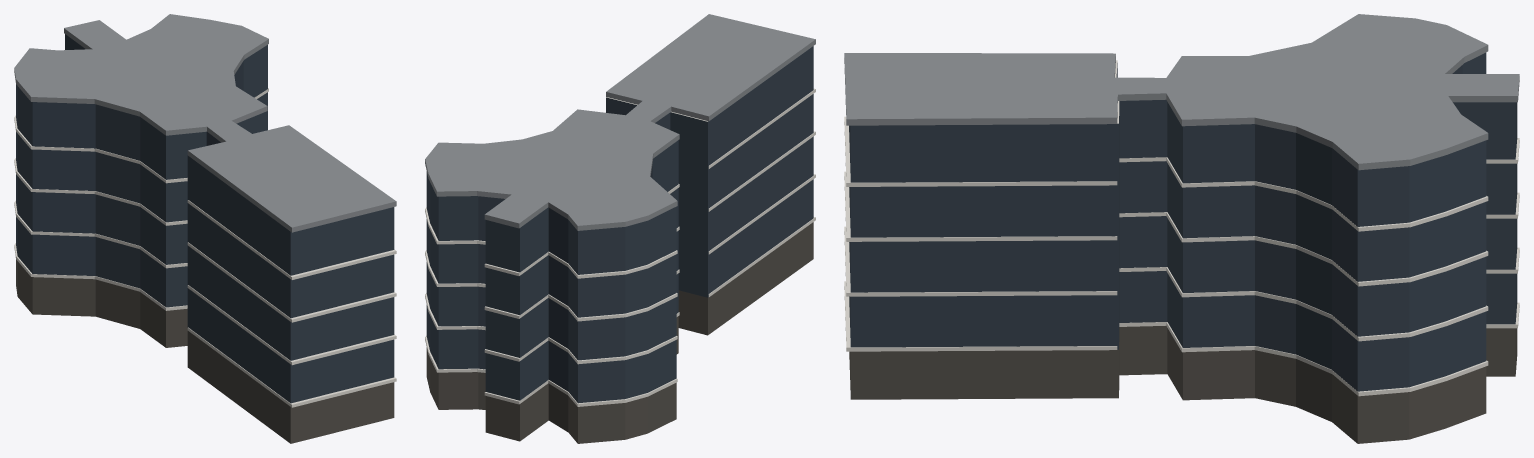
The model's file is lattice_apartments.glb.
3 renders of one model, left to right at view 1: azimuth 30°, elevation 25°; view 2: azimuth 150°, elevation 25°; view 3: azimuth 270°, elevation 25°, orthographic. The views are drawn at different scales.
Parts seen in each view (by area): view 1: Lattice_Apartments; view 2: Lattice_Apartments; view 3: Lattice_Apartments.
Boxes of the visible parts, <box> form: Lattice_Apartments: <box>14,14,396,443</box>; Lattice_Apartments: <box>425,14,815,443</box>; Lattice_Apartments: <box>844,14,1519,443</box>.
Size of the model in its own units: 49.77 by 43.5 by 94.78.
